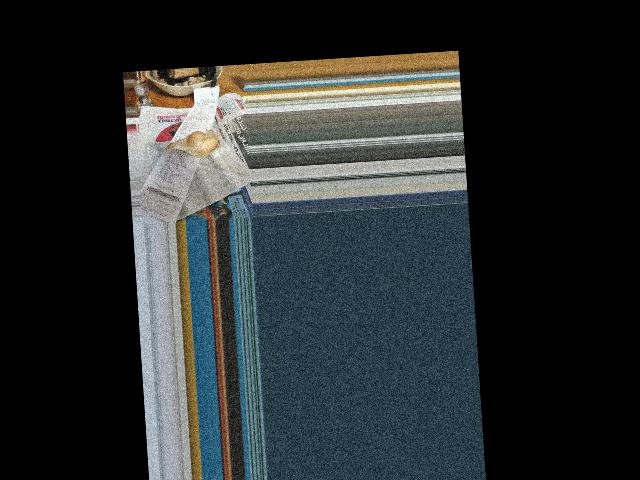onion: (175, 132, 219, 157)
